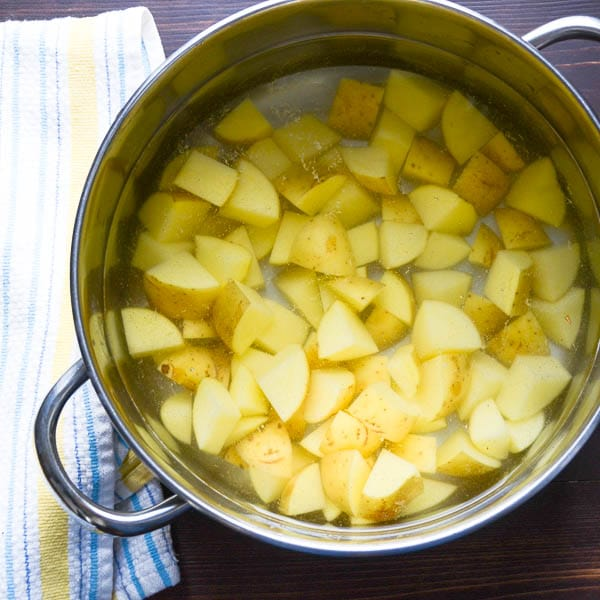boiled potatoes: (189, 122, 515, 461)
